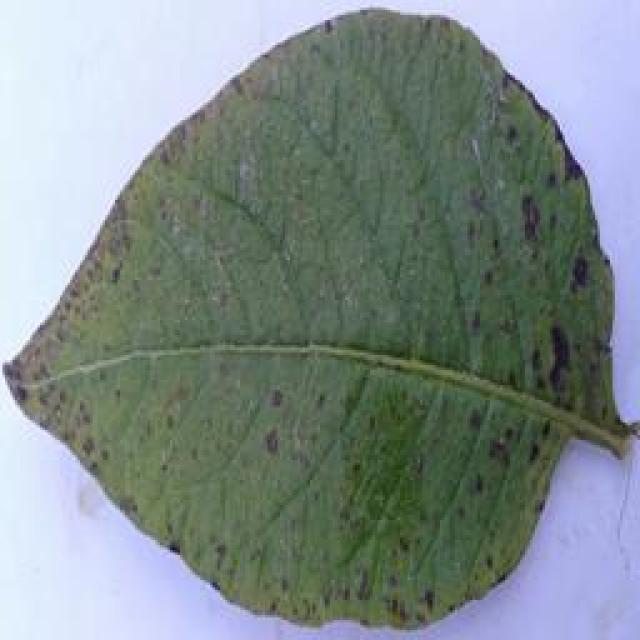Potato_Early_Blight: (1, 9, 632, 638)
